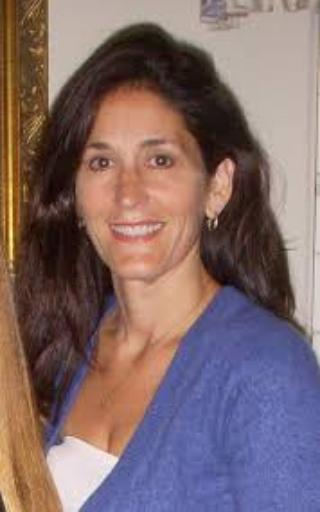left_eye: (145, 155, 178, 173)
left_lip_corner: (161, 218, 174, 232)
right_eye: (90, 156, 116, 172)
right_lip_corner: (108, 222, 117, 234)
